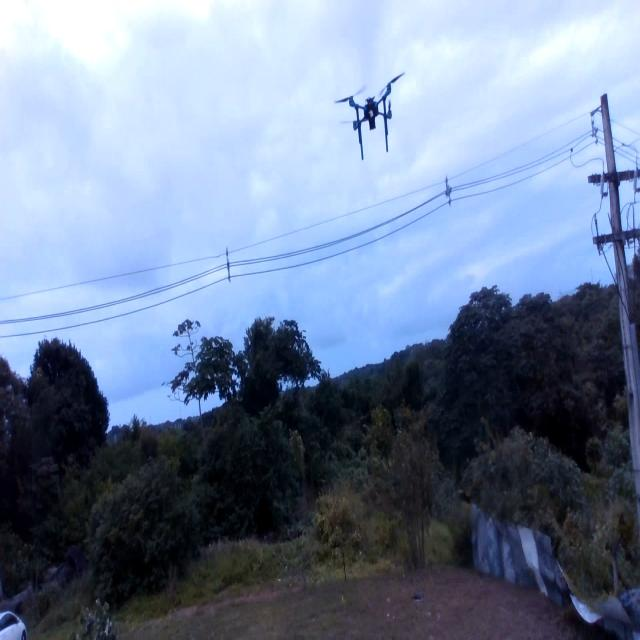-uav-: (326, 53, 416, 175)
